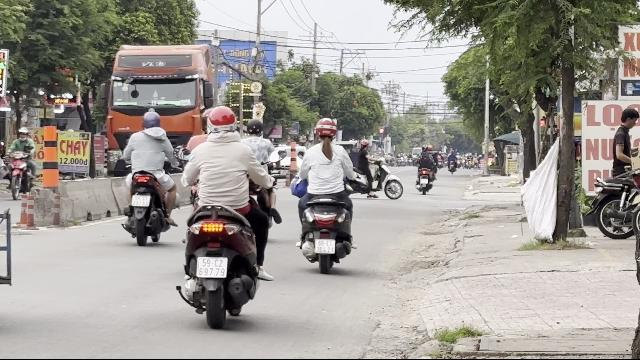helmet: (206, 106, 238, 136), (314, 118, 338, 142), (141, 110, 161, 130), (245, 118, 263, 137)
licenseplate: (197, 257, 227, 277), (315, 238, 335, 254), (130, 195, 150, 207)
motorcyclist: (174, 102, 278, 328), (290, 115, 358, 274), (118, 109, 178, 244)
